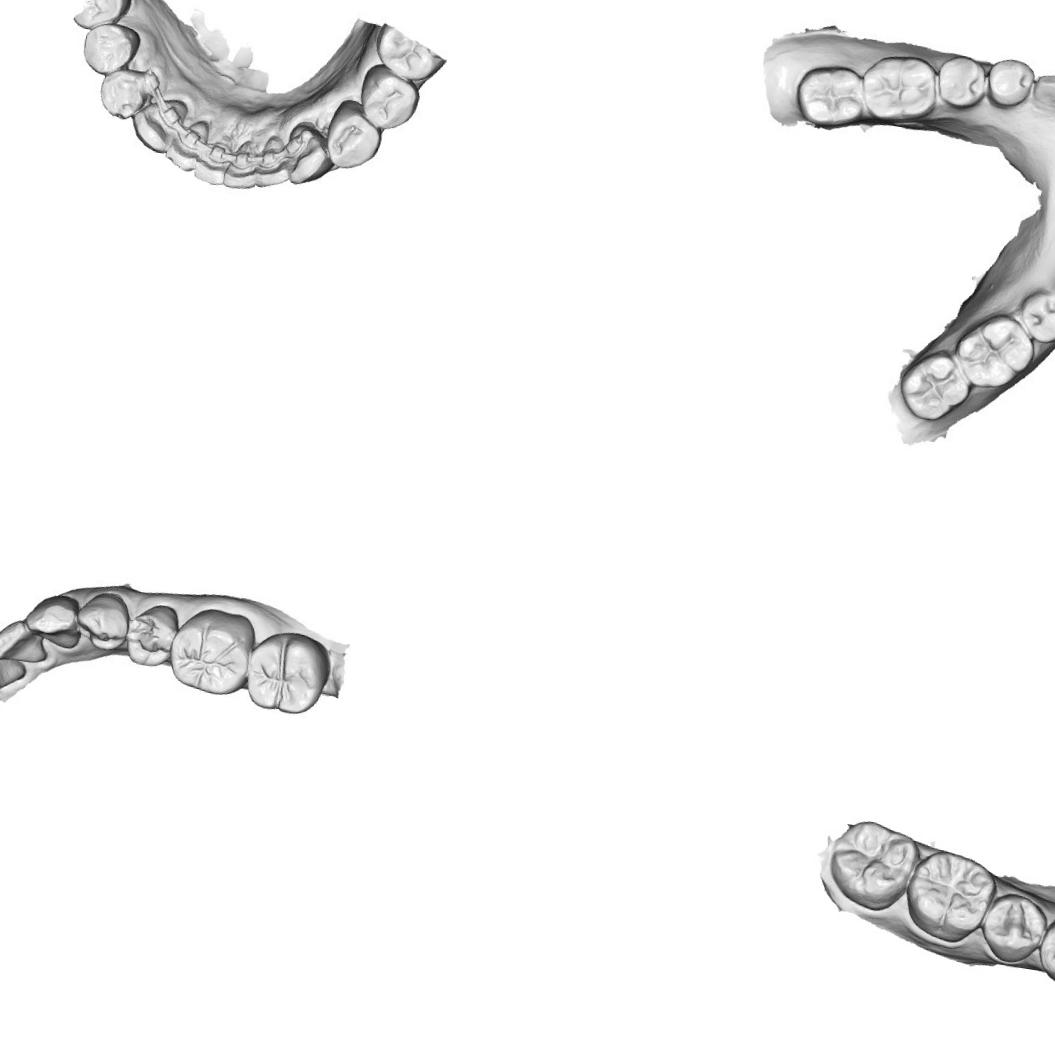canine: (96, 63, 159, 127), (25, 593, 89, 655), (282, 126, 333, 182), (1028, 70, 1055, 118)
incisor: (130, 98, 185, 154), (0, 618, 53, 670), (252, 138, 294, 194), (167, 114, 210, 168), (196, 136, 240, 188), (225, 137, 264, 190), (0, 648, 36, 702)
molar: (900, 845, 1002, 949), (822, 813, 921, 916), (171, 607, 257, 697), (245, 632, 328, 717), (861, 49, 941, 129), (952, 310, 1030, 392), (894, 348, 970, 424), (800, 63, 867, 126)
premolar: (976, 889, 1048, 967), (122, 598, 182, 672), (982, 50, 1044, 115), (326, 102, 384, 166), (79, 21, 139, 80), (358, 70, 416, 131), (78, 592, 132, 654), (934, 56, 988, 113), (1016, 286, 1055, 348), (1035, 915, 1055, 991)
